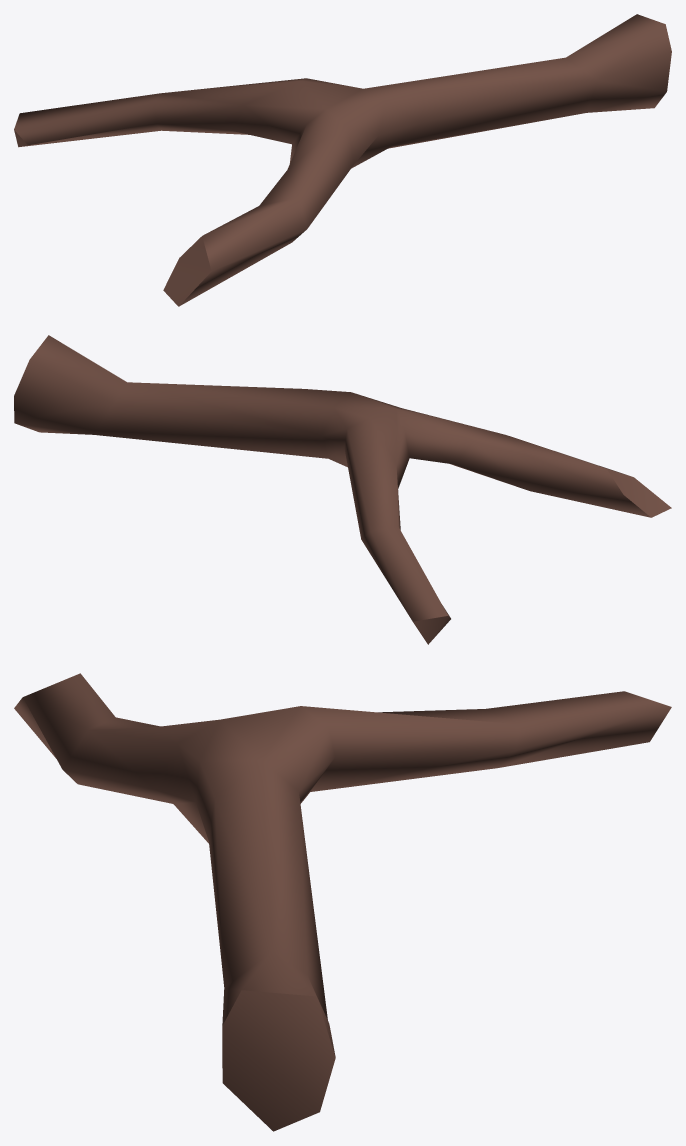
File: deadwood_028.glb
The picture shows the model from 3 angles, top to bottom: view 1: azimuth 30°, elevation 25°; view 2: azimuth 150°, elevation 25°; view 3: azimuth 270°, elevation 25°; orthographic projection. The views are drawn at different scales.
Visible parts, largest first — view 1: deadwood_028; view 2: deadwood_028; view 3: deadwood_028.
Boxes of the visible parts, <box> form: deadwood_028: <box>14,14,671,306</box>; deadwood_028: <box>14,335,671,644</box>; deadwood_028: <box>14,673,671,1131</box>.
Bounding box in the file's own units: 2.27 × 0.4057 × 1.46.
1 material, 1 textured.
